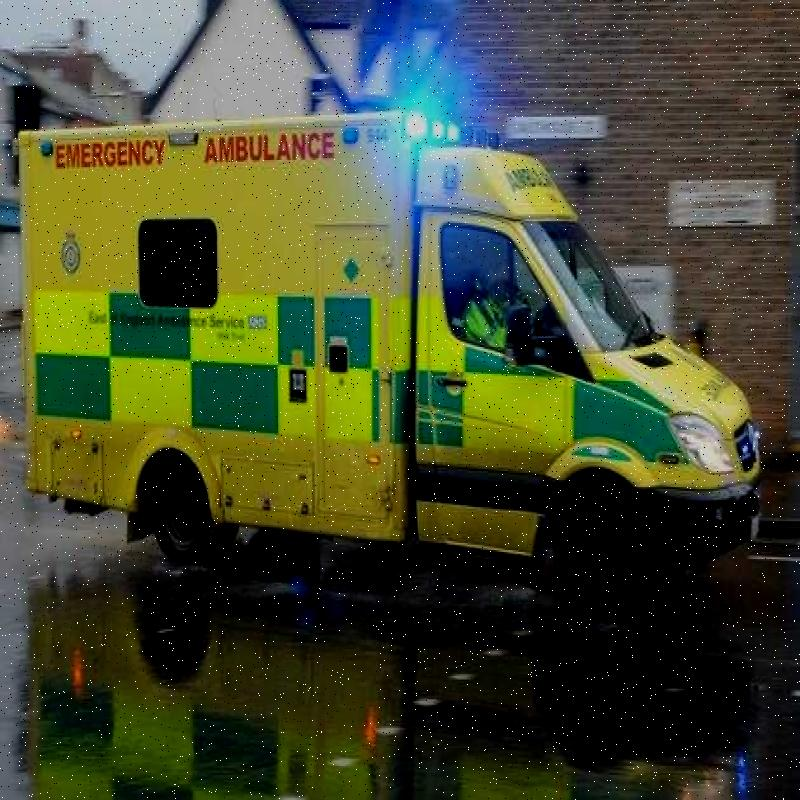AmbulanceSiren: (385, 88, 517, 162)
